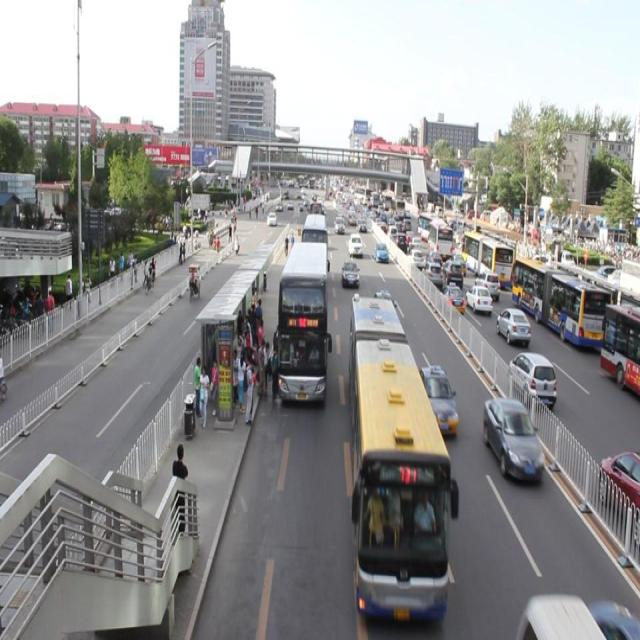car: (482, 398, 543, 482), (414, 364, 456, 435), (341, 259, 357, 286), (347, 232, 362, 257), (374, 242, 387, 261), (333, 215, 343, 233), (356, 220, 367, 232), (347, 212, 356, 226)
van: (347, 293, 458, 617), (277, 237, 328, 405), (300, 212, 327, 268)
